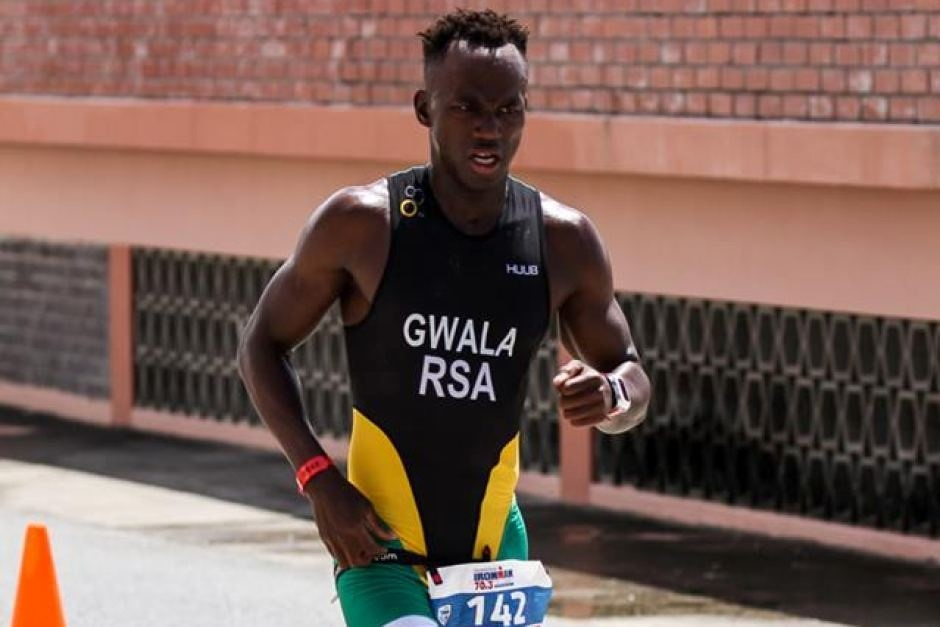face_no_mask: (413, 12, 530, 181)
